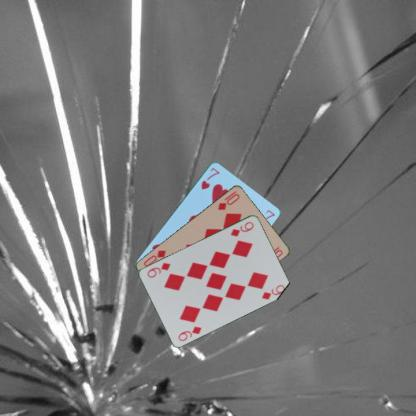10d: (215, 187, 241, 211)
7h: (198, 164, 221, 190)
9d: (228, 219, 255, 237), (176, 324, 202, 342)
